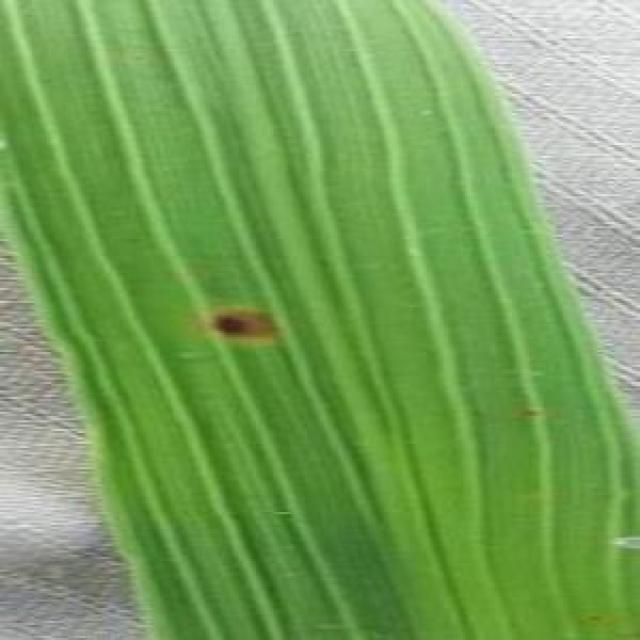Brown_Spot: (186, 296, 290, 349)
